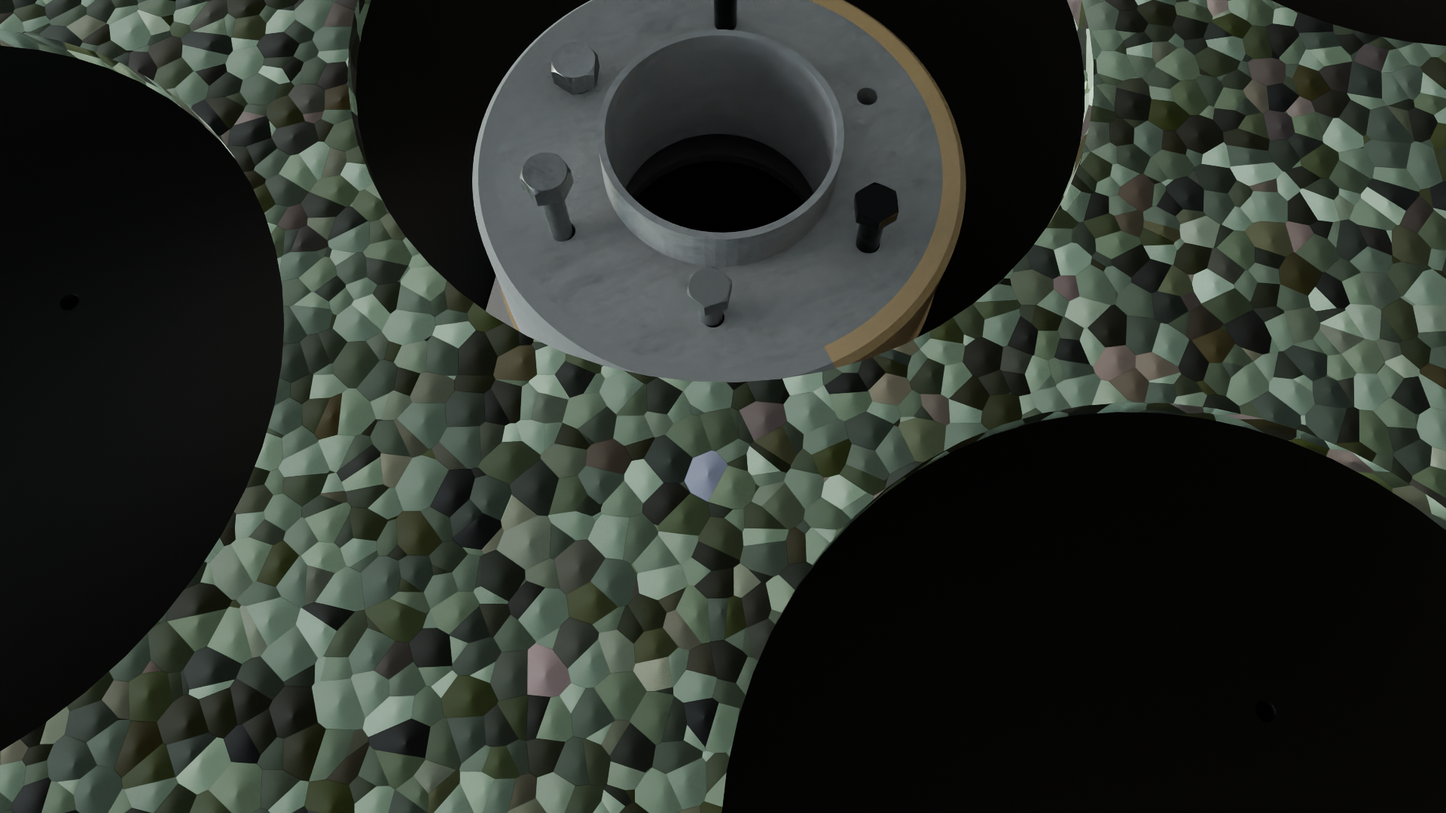bolt: (520, 152, 571, 195), (687, 266, 732, 309), (551, 42, 597, 84), (856, 182, 898, 223)
